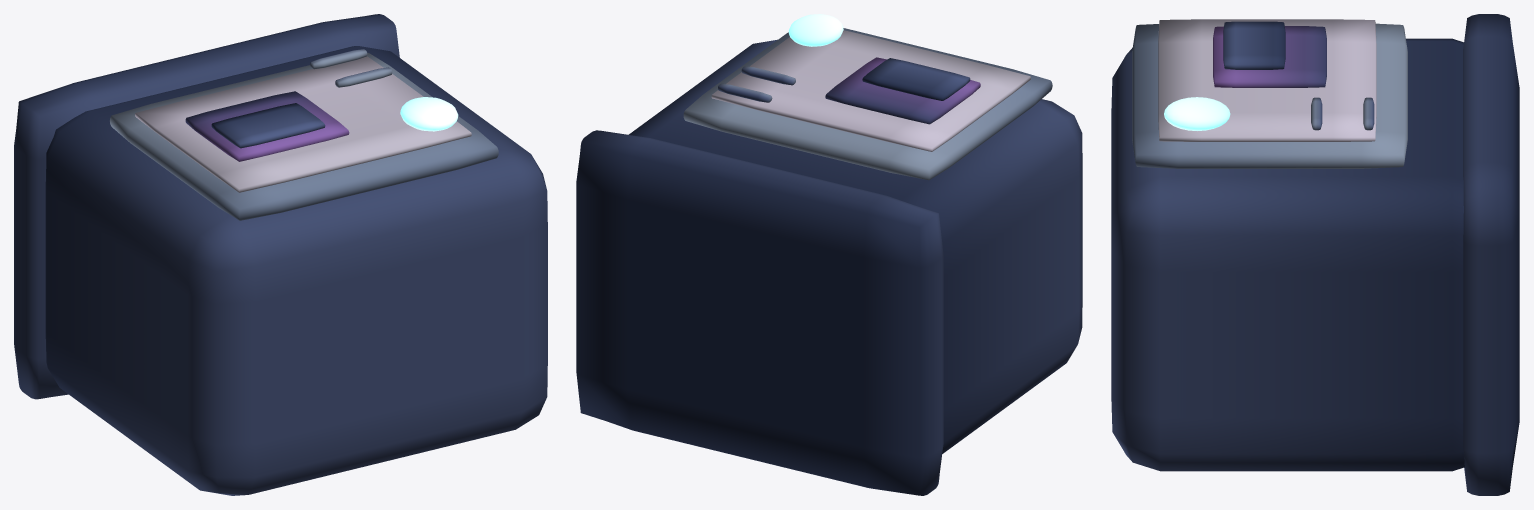
File: SpalakhMatteSwitch_v099.glb
3 views of the same model, side by side, from view 1: azimuth 30°, elevation 25°; view 2: azimuth 150°, elevation 25°; view 3: azimuth 270°, elevation 25° (orthographic). The views are drawn at different scales.
Parts seen in each view (by area): view 1: game_asset; view 2: game_asset; view 3: game_asset.
Boxes of the visible parts, bbox=[...] form: game_asset: bbox=[14, 14, 547, 495]; game_asset: bbox=[576, 14, 1082, 495]; game_asset: bbox=[1111, 14, 1519, 495].
Bounding box in the file's own units: 0.86 × 0.741 × 0.785.
